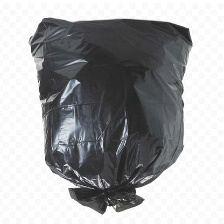plastic_bag: (22, 9, 195, 218)
